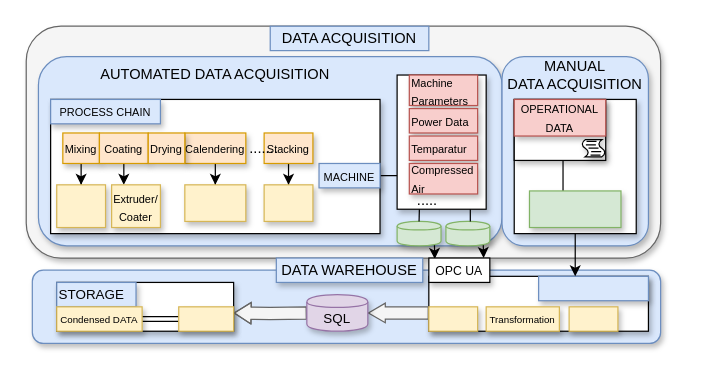
Some shapes in this 720 by 373 pixel diagram are drawn without their labels. The centre of each missing label's shape, as x and y in pixels:
Calender: pixel 216 204
Extraction: pixel 454 320
Loading: pixel 594 320
MES: pixel 419 234
Microsoft: pixel 575 210
Planetary mixer: pixel 82 207
PREPROCESSING: pixel 594 289
Raw DATA: pixel 207 320
SCADA: pixel 468 234
Z-Folder: pixel 289 204
